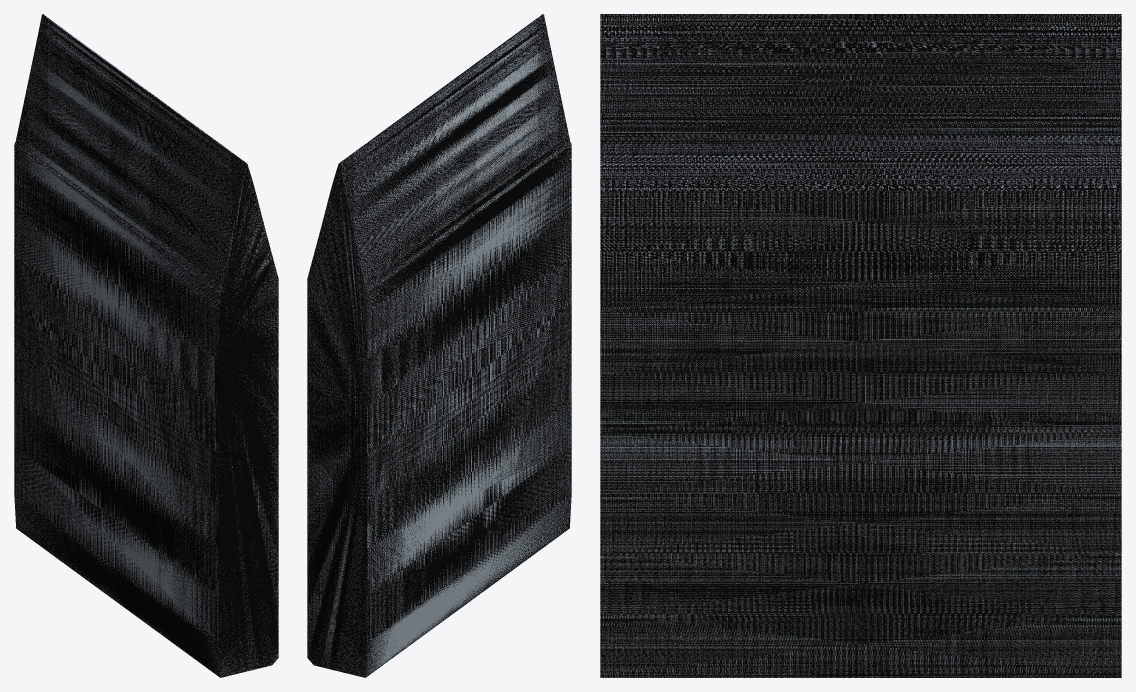
Rendered from kazık.fbx.
3 renders of one model, left to right at view 1: azimuth 30°, elevation 25°; view 2: azimuth 150°, elevation 25°; view 3: azimuth 270°, elevation 25°, orthographic. The views are drawn at different scales.
Visible parts, largest first — view 1: Group1; view 2: Group1; view 3: Group1.
Boxes of the visible parts, x1=… form: Group1: x1=14, y1=14, x2=278, y2=677; Group1: x1=307, y1=14, x2=571, y2=677; Group1: x1=600, y1=14, x2=1121, y2=677.
Size of the model in its own units: 340 by 2743 by 2000.
